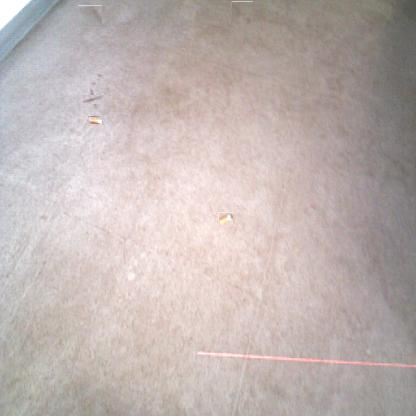dirty: (218, 212, 233, 227), (88, 116, 102, 124)
mark: (231, 1, 253, 24), (78, 5, 102, 26), (86, 91, 102, 107), (96, 73, 104, 80), (90, 81, 96, 87)
